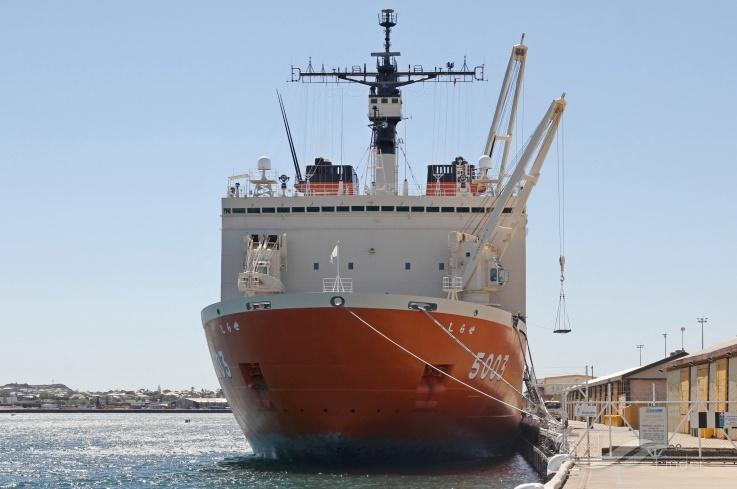OCR: (461, 337, 509, 389), (210, 346, 236, 384)
